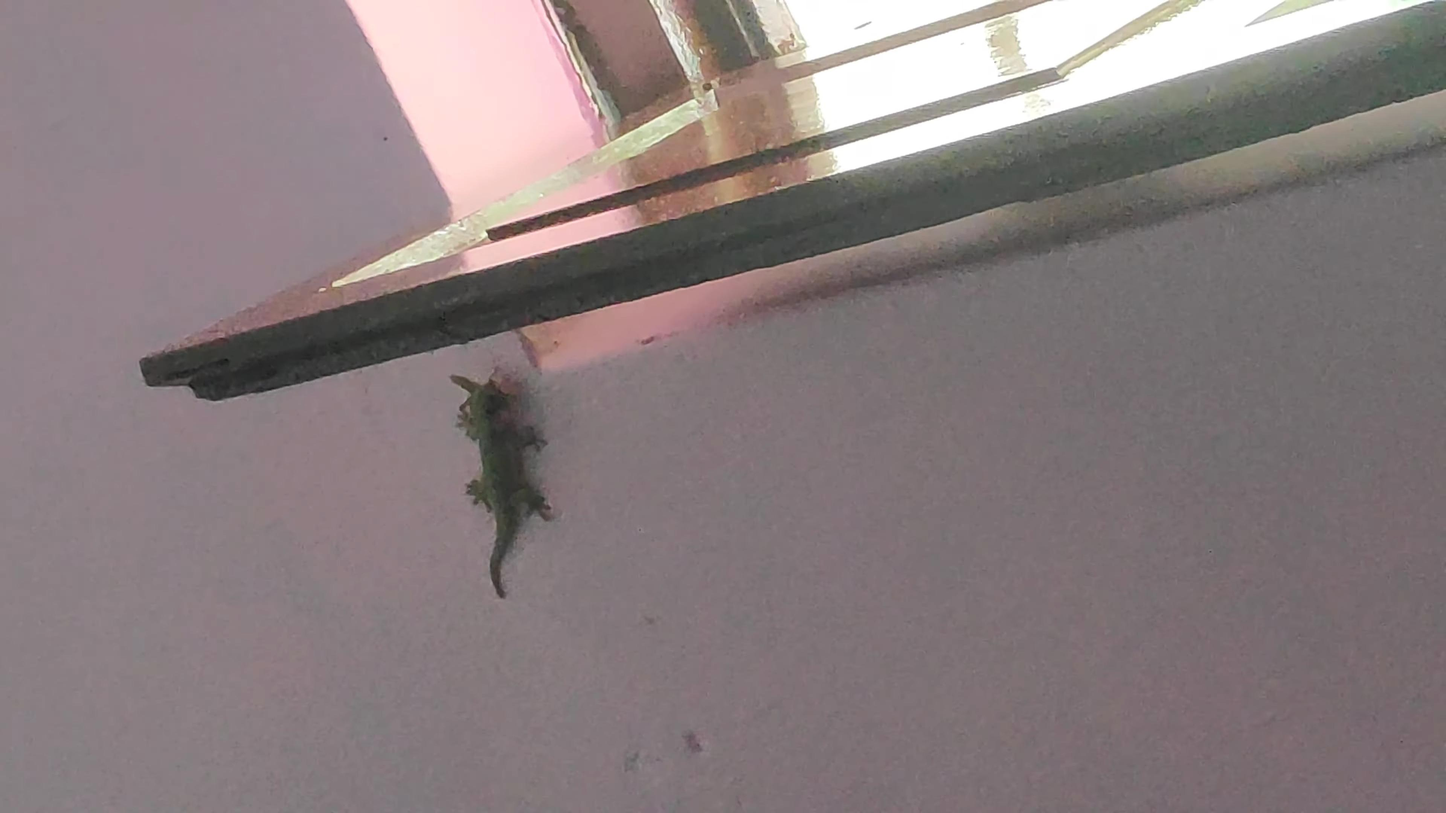lizard: (433, 364, 572, 602)
